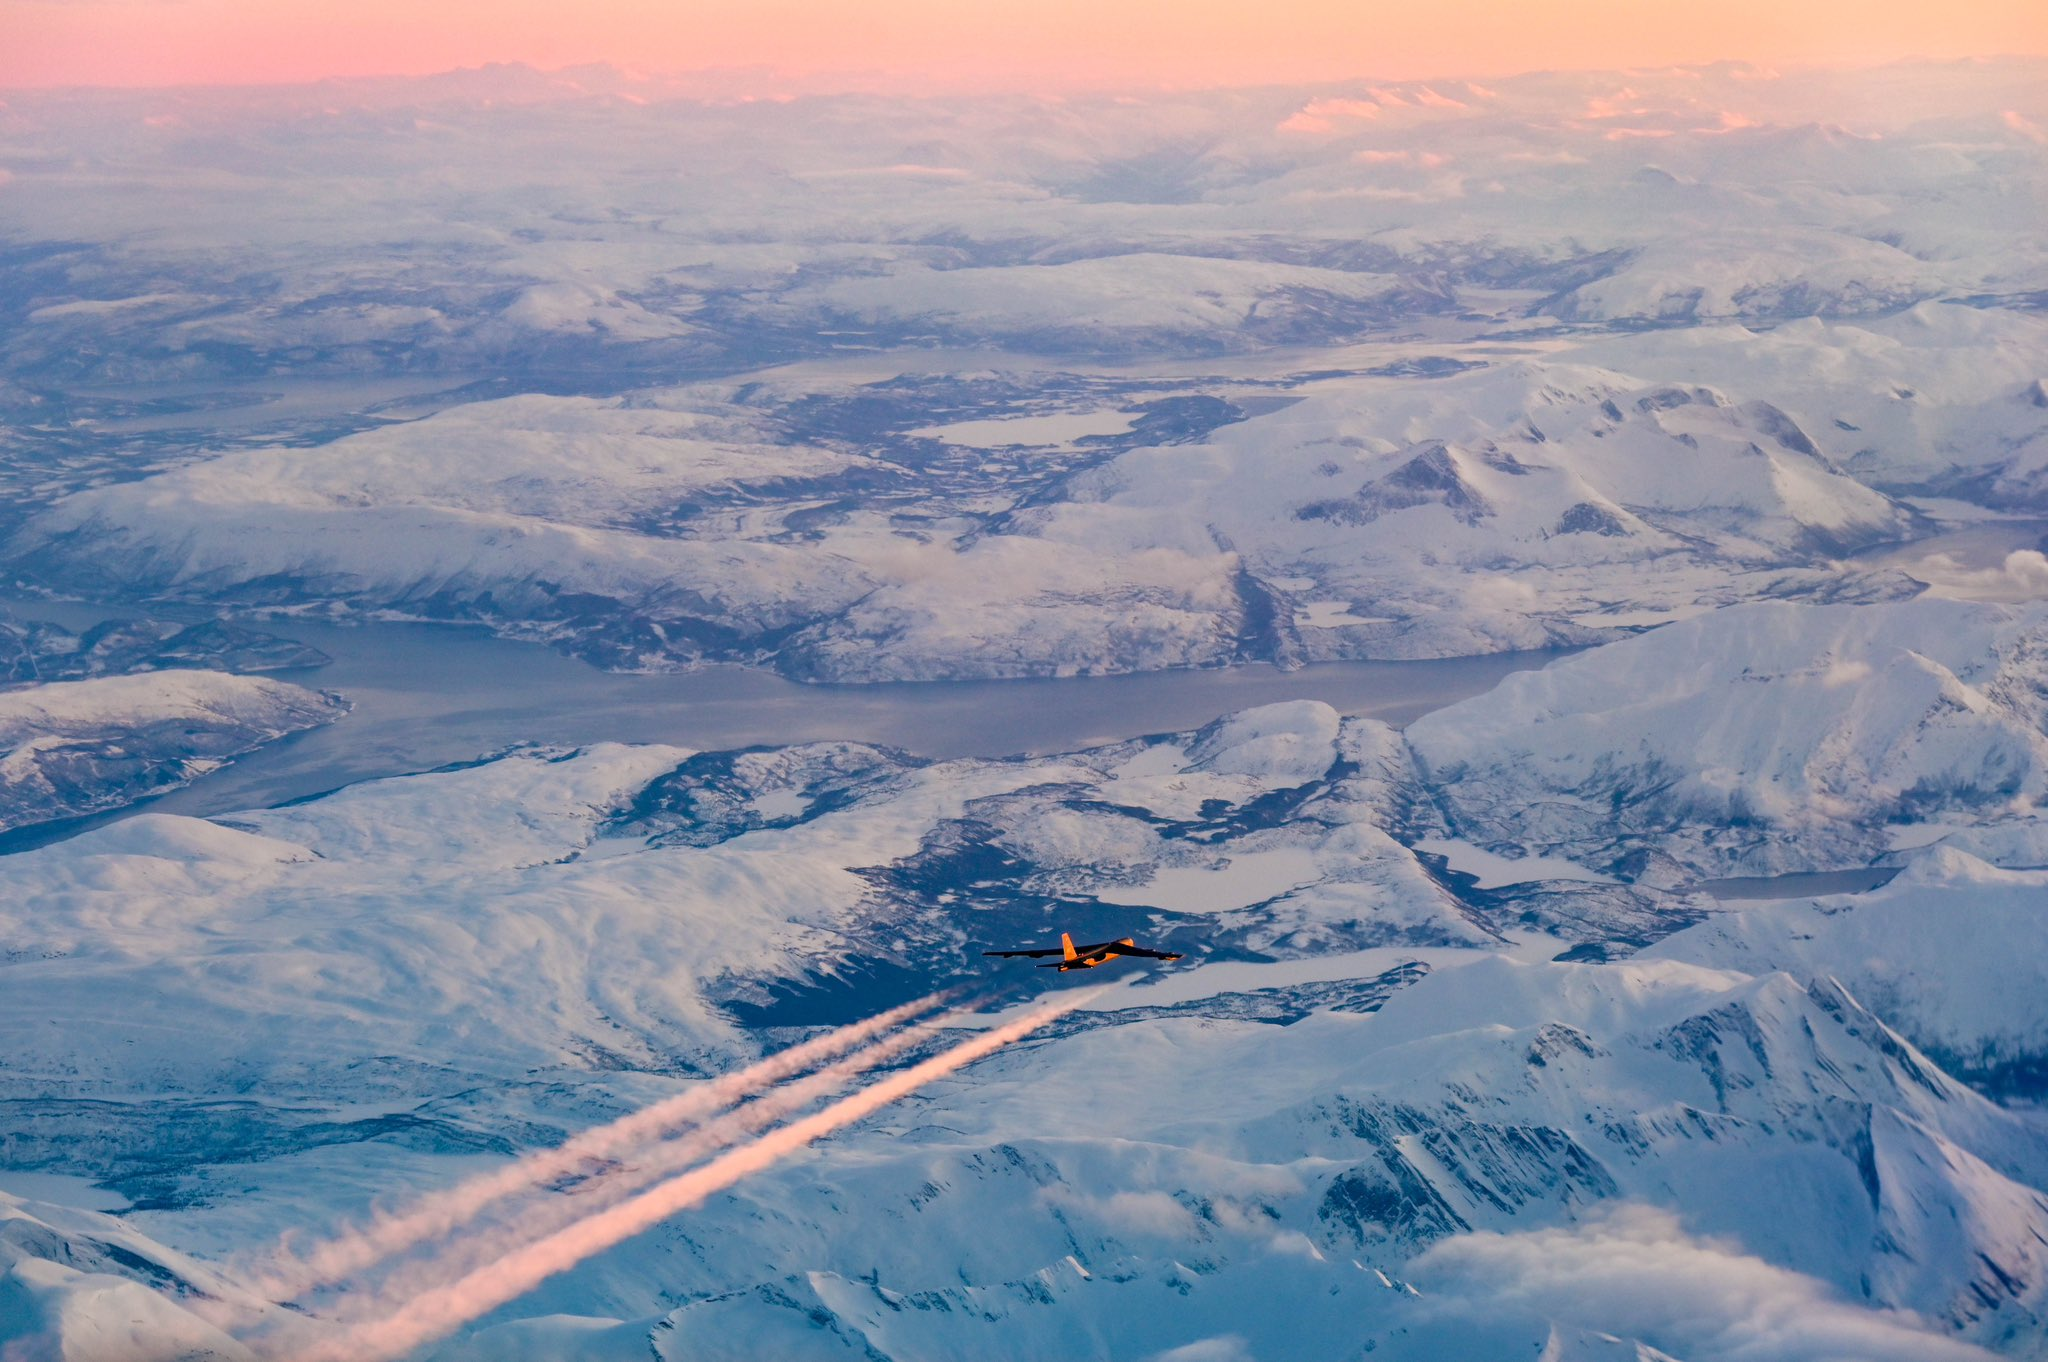B52: (981, 932, 1187, 974)
